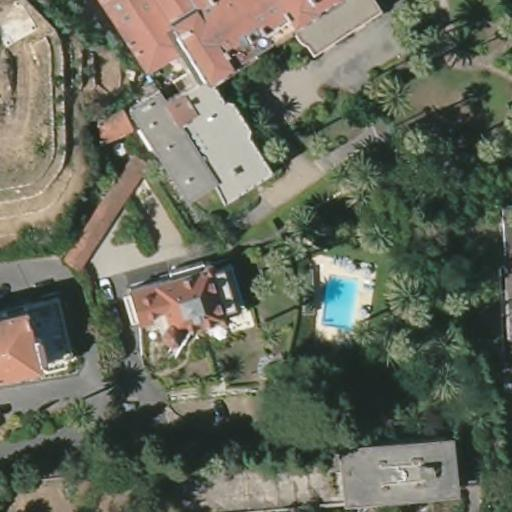pool: (314, 268, 366, 333)
